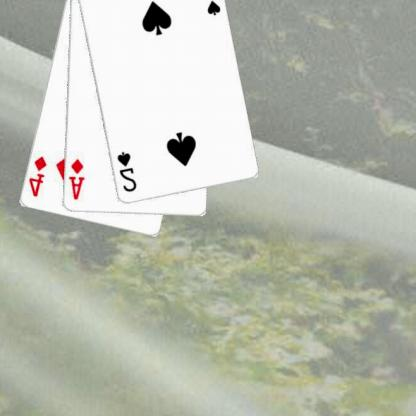2S: (116, 149, 140, 194), (200, 0, 224, 18)
4D: (28, 154, 49, 198)
AD: (68, 157, 87, 201)
